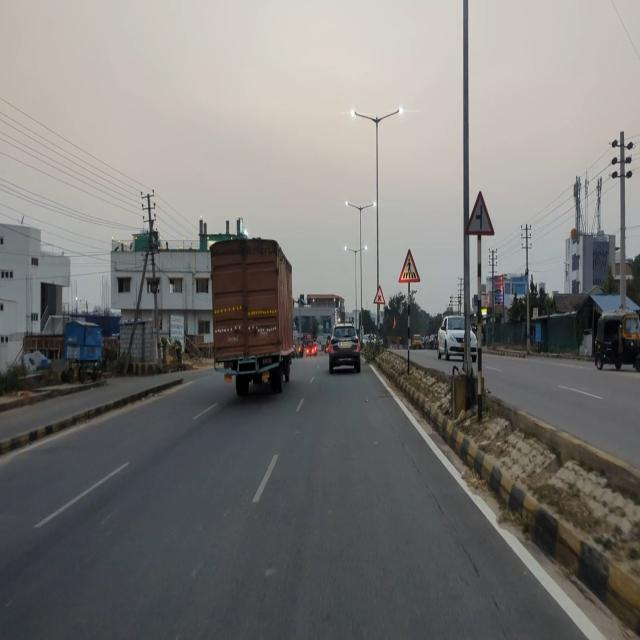bien_cam: (463, 189, 496, 238), (397, 245, 421, 285), (373, 284, 386, 305)
